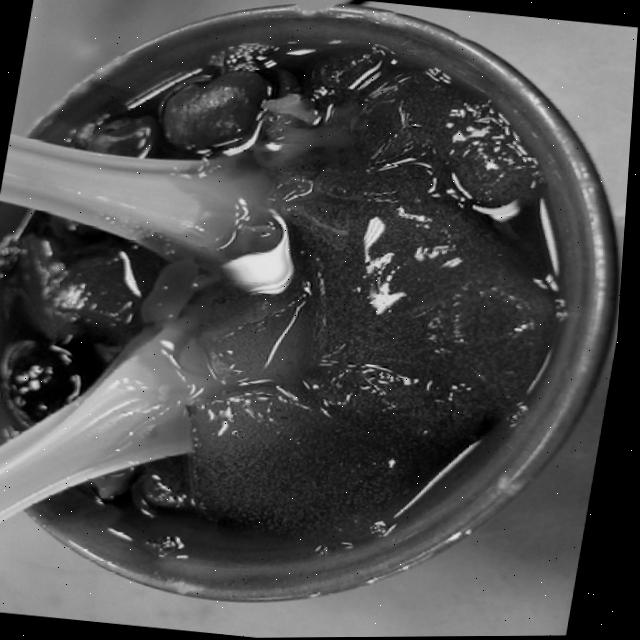蛋糕甜品: (0, 0, 639, 619)
